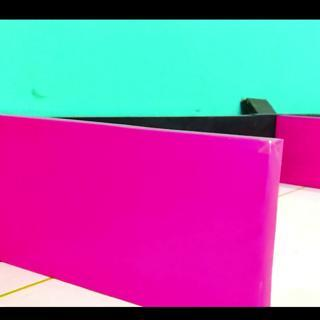xparking: (6, 143, 266, 303), (284, 121, 315, 186)
